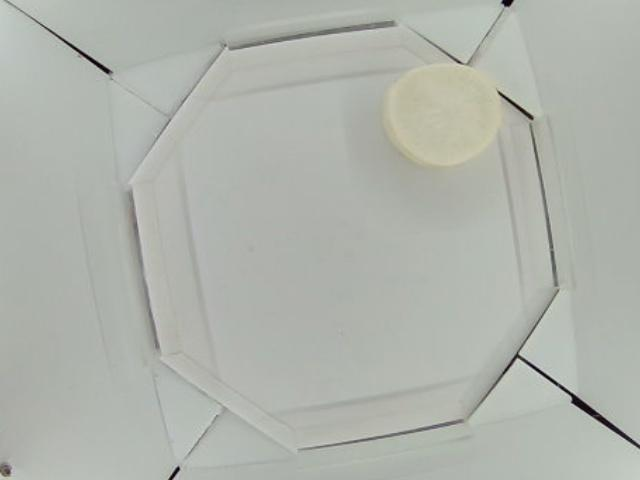Mooli: (383, 62, 503, 167)
